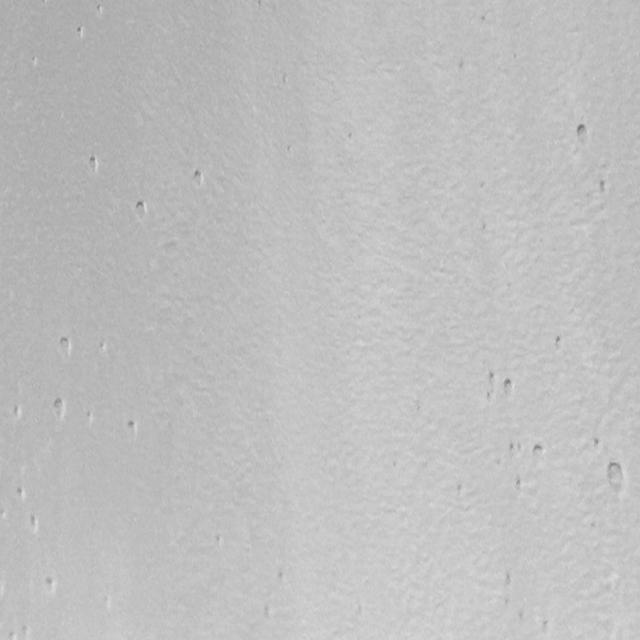pin holes: (602, 459, 628, 495), (572, 121, 592, 146), (132, 198, 152, 222), (50, 394, 68, 420), (56, 334, 74, 360), (189, 168, 208, 190), (502, 376, 519, 399), (451, 480, 469, 501), (531, 442, 548, 464), (594, 178, 610, 200), (552, 332, 568, 354), (87, 154, 103, 175), (125, 417, 141, 438), (260, 603, 276, 624), (485, 369, 499, 389), (26, 514, 40, 533), (44, 576, 58, 594), (508, 440, 522, 458), (100, 592, 112, 612), (11, 404, 25, 421), (15, 485, 29, 502), (18, 623, 32, 640), (591, 436, 604, 452), (92, 4, 105, 20), (75, 24, 88, 40), (97, 339, 110, 355), (214, 534, 227, 550), (539, 619, 552, 635), (84, 408, 96, 425), (514, 476, 526, 492), (28, 54, 40, 70), (7, 628, 20, 640), (0, 506, 8, 524)
